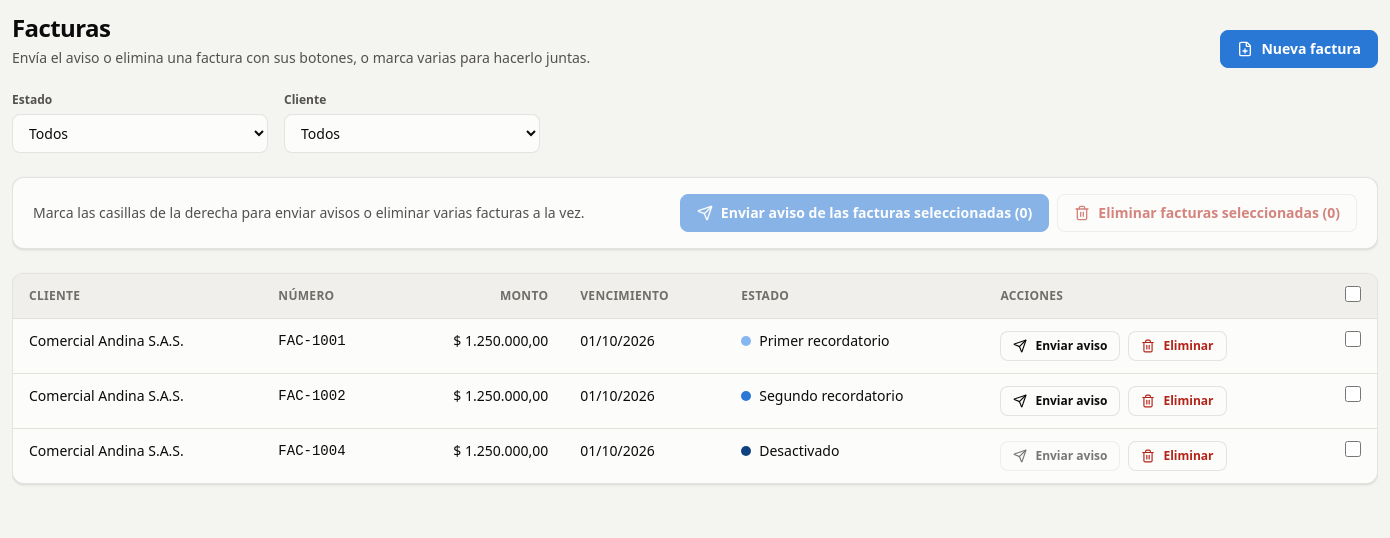
Test: FacturasPage: selección de facturas › "Quitar selección" vuelve al modo individual
Click the checkbox named "Seleccionar FAC-1001" at [1353, 339], box [1345,331,1361,347]
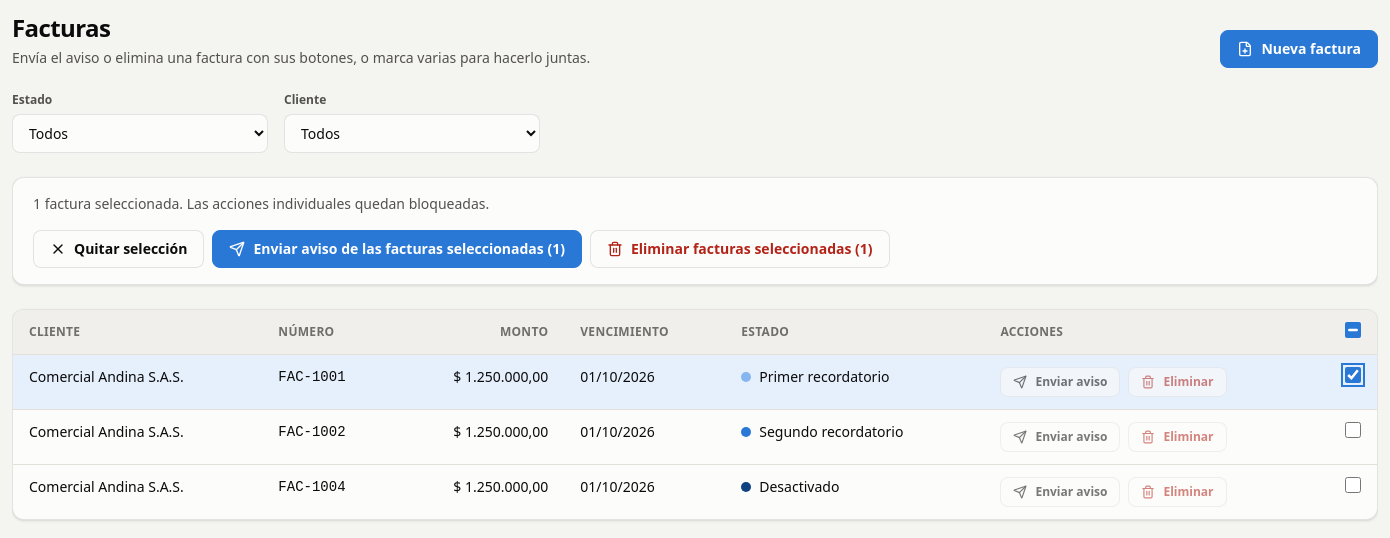
Click the button "Quitar selección" at [119, 249], box [33,230,204,268]
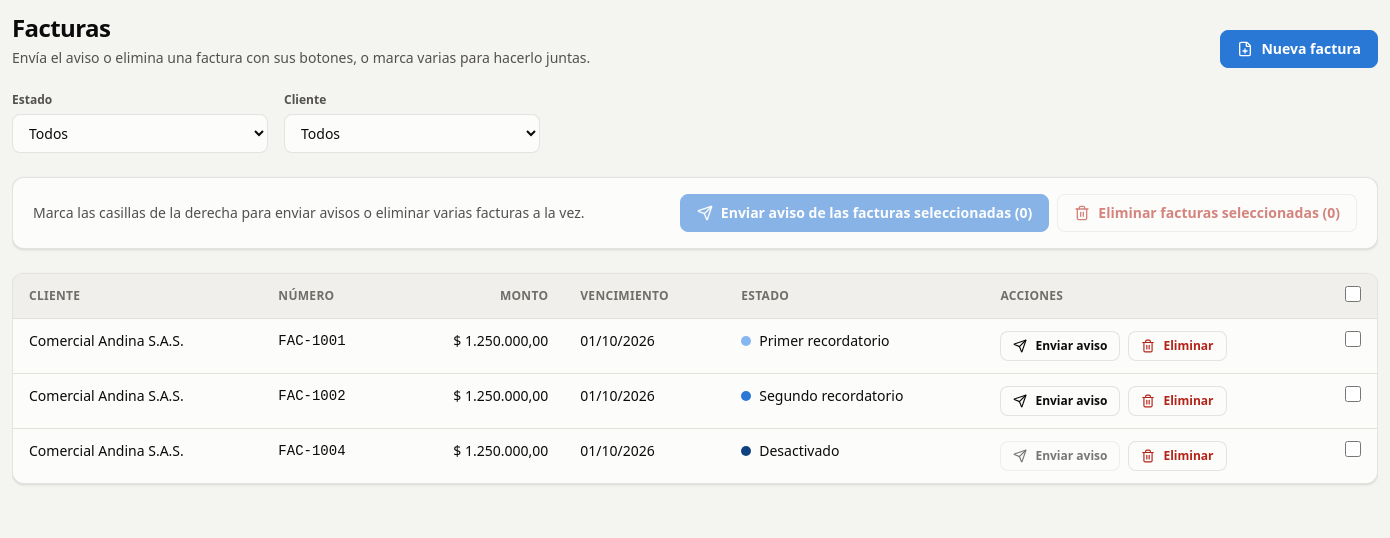
Expected: the checkbox named "Seleccionar FAC-1001" is not checked, [1345,331,1361,347]
Expected: the button with aria-label "Enviar aviso de FAC-1001" is enabled, [1000,331,1120,361]
